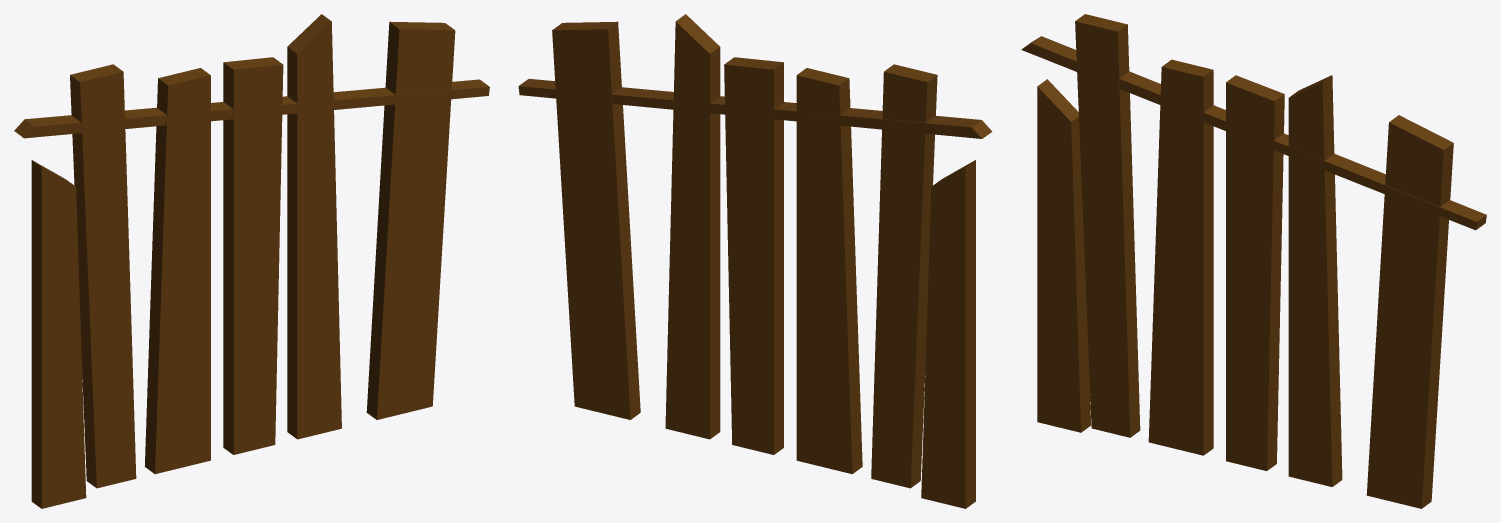
3 views of the same model, side by side, from view 1: azimuth 30°, elevation 25°; view 2: azimuth 150°, elevation 25°; view 3: azimuth 330°, elevation 25° (orthographic).
Parts seen in each view (by area): view 1: polySurface47, polySurface49, polySurface53, polySurface54, polySurface62, polySurface66, polySurface56, polySurface65, polySurface64, polySurface52, polySurface57, polySurface45 (+9 smaller); view 2: polySurface47, polySurface53, polySurface49, polySurface54, polySurface62, polySurface66, polySurface56, polySurface64, polySurface52, polySurface65, polySurface57, polySurface45 (+9 smaller); view 3: polySurface54, polySurface64, polySurface52, polySurface66, polySurface56, polySurface47, polySurface57, polySurface49, polySurface53, polySurface45, polySurface44, polySurface62 (+9 smaller).
Boxes of the visible parts, left/top/right/bottom form: polySurface47: left=223, top=112, right=280, bottom=421; polySurface49: left=144, top=73, right=186, bottom=474; polySurface53: left=366, top=21, right=413, bottom=419; polySurface54: left=402, top=22, right=455, bottom=408; polySurface62: left=287, top=58, right=320, bottom=439; polySurface66: left=70, top=64, right=131, bottom=314; polySurface56: left=31, top=304, right=86, bottom=508; polySurface65: left=76, top=199, right=121, bottom=488; polySurface64: left=305, top=78, right=341, bottom=433; polySurface52: left=177, top=68, right=210, bottom=366; polySurface57: left=31, top=160, right=79, bottom=346; polySurface45: left=223, top=57, right=283, bottom=214; polySurface47: left=727, top=119, right=783, bottom=428; polySurface53: left=592, top=21, right=640, bottom=419; polySurface49: left=820, top=74, right=862, bottom=474; polySurface54: left=552, top=22, right=606, bottom=408; polySurface62: left=685, top=60, right=720, bottom=439; polySurface66: left=876, top=64, right=937, bottom=320; polySurface56: left=921, top=308, right=975, bottom=508; polySurface64: left=665, top=77, right=700, bottom=433; polySurface52: left=796, top=68, right=830, bottom=371; polySurface65: left=887, top=195, right=930, bottom=488; polySurface57: left=927, top=160, right=975, bottom=349; polySurface45: left=724, top=57, right=783, bottom=214; polySurface54: left=1399, top=121, right=1453, bottom=508; polySurface64: left=1296, top=125, right=1342, bottom=486; polySurface52: left=1170, top=64, right=1213, bottom=363; polySurface66: left=1075, top=14, right=1135, bottom=273; polySurface56: left=1037, top=236, right=1090, bottom=432; polySurface47: left=1226, top=125, right=1281, bottom=426; polySurface57: left=1037, top=79, right=1083, bottom=261; polySurface49: left=1148, top=59, right=1189, bottom=445; polySurface53: left=1366, top=115, right=1410, bottom=498; polySurface45: left=1226, top=75, right=1284, bottom=247; polySurface44: left=1226, top=294, right=1280, bottom=470; polySurface62: left=1288, top=112, right=1311, bottom=481.
Size of the model in its own units: 143 by 123 by 5.95.
